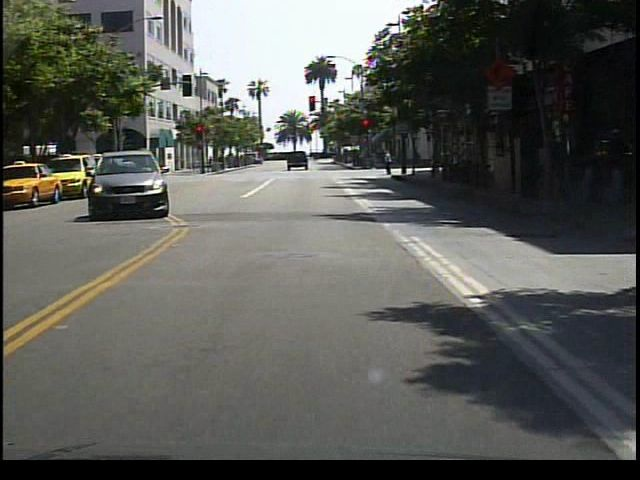person: (411, 144, 427, 174), (383, 149, 399, 176)
